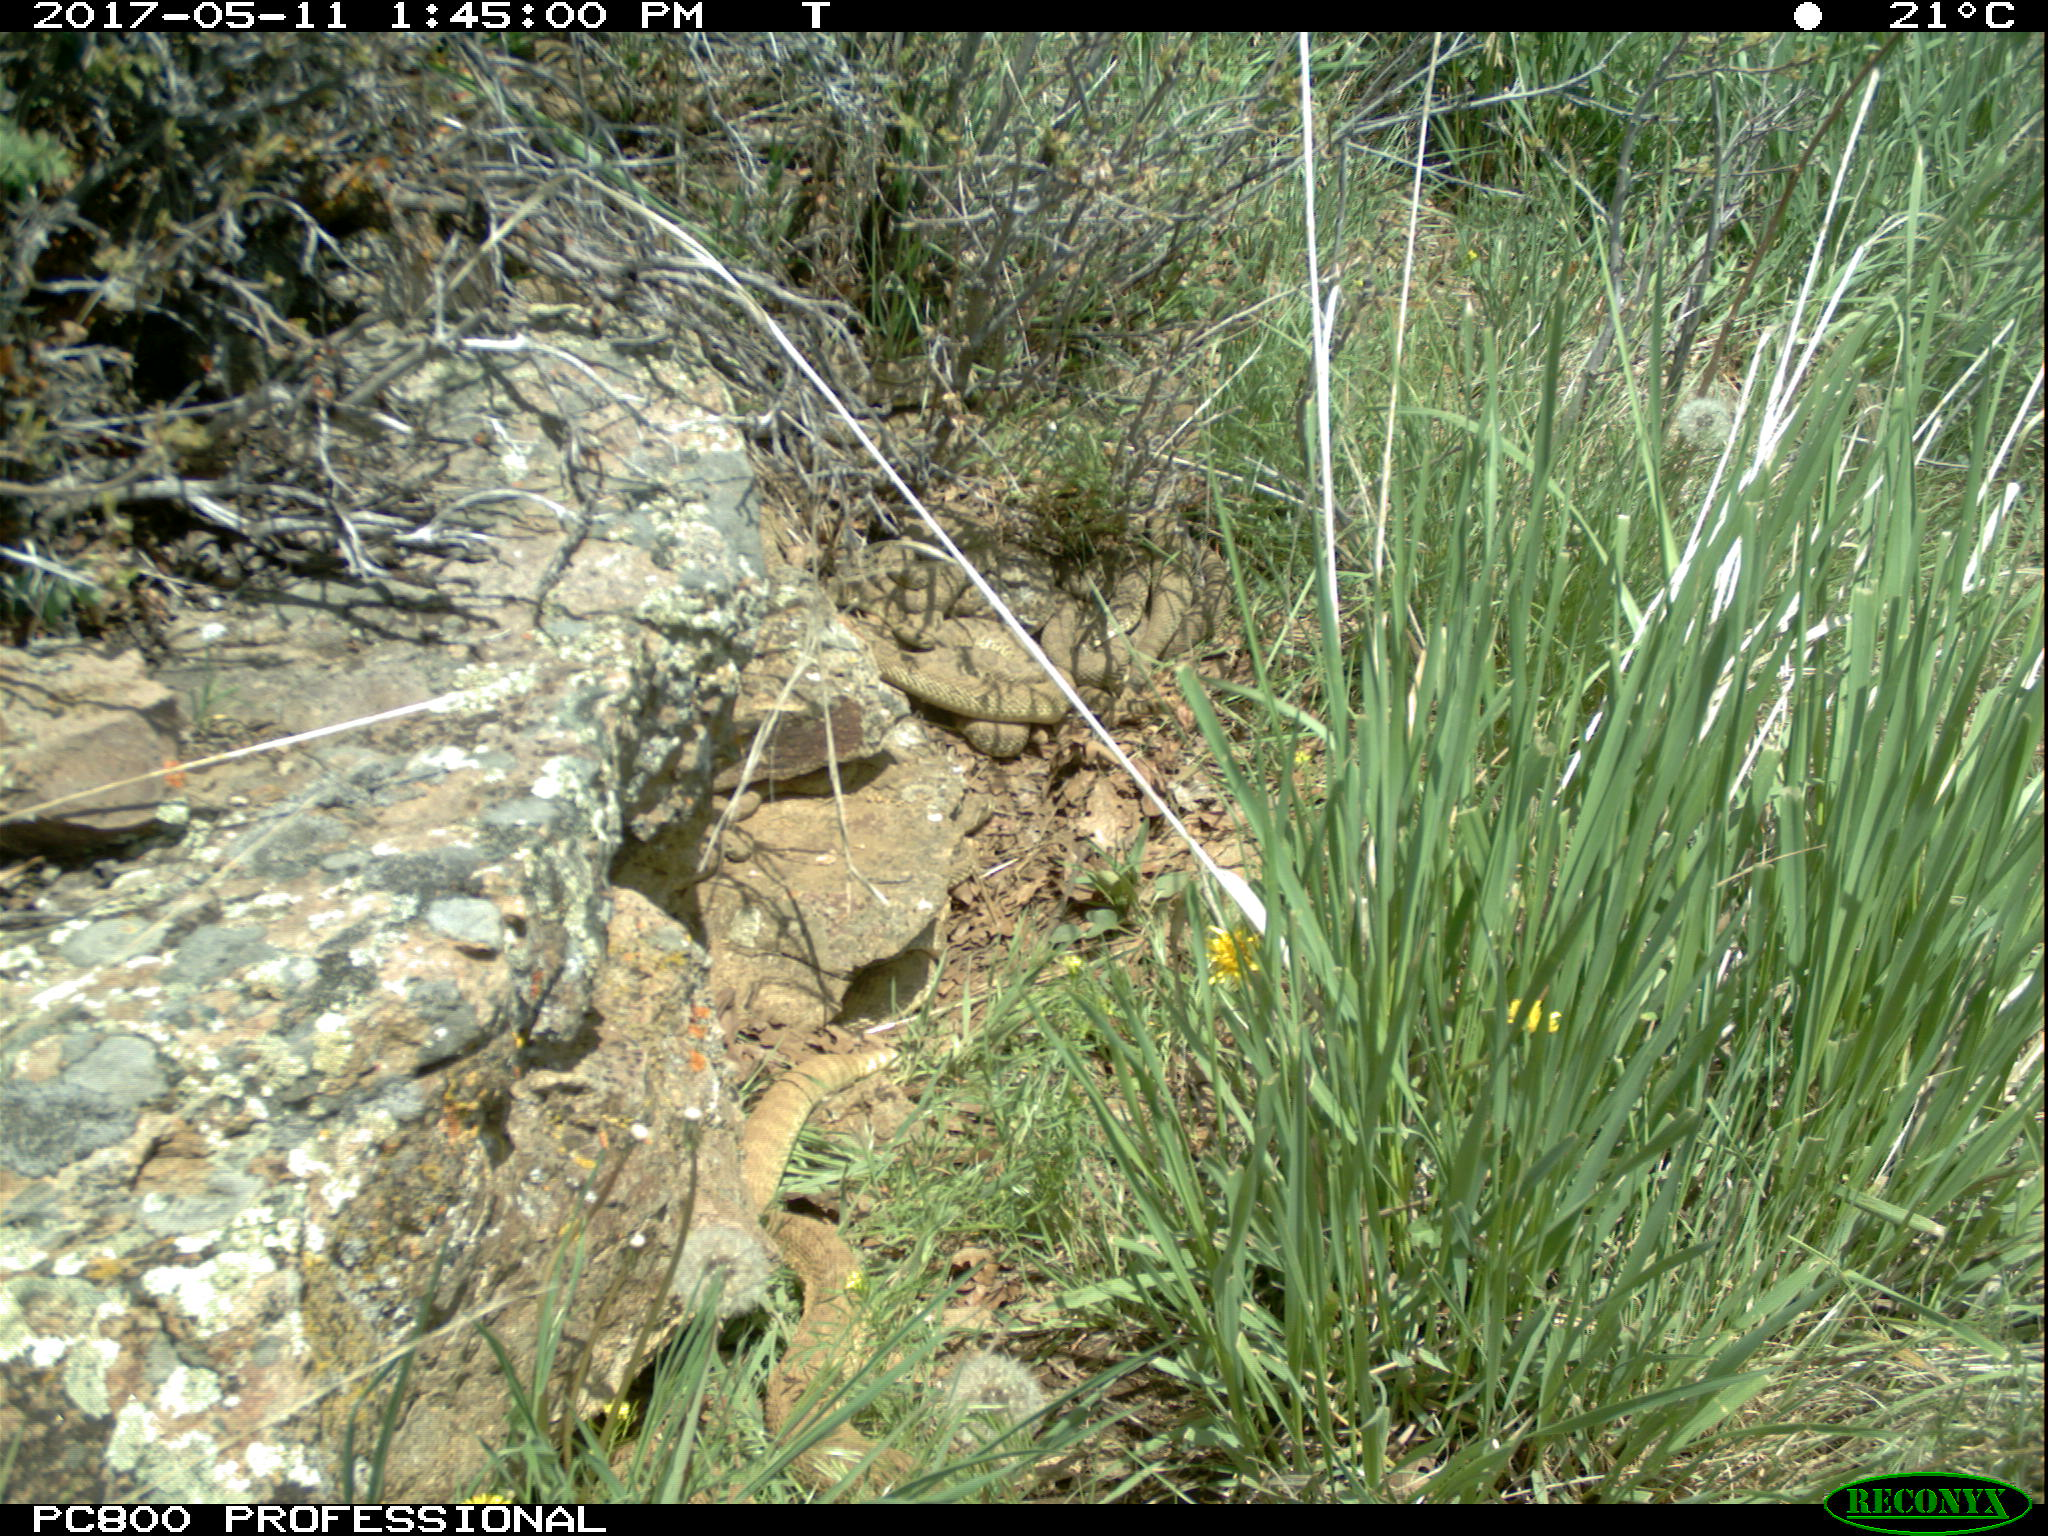snake: (845, 531, 1058, 757), (763, 1212, 924, 1494), (731, 1046, 900, 1246), (1056, 550, 1237, 692)
